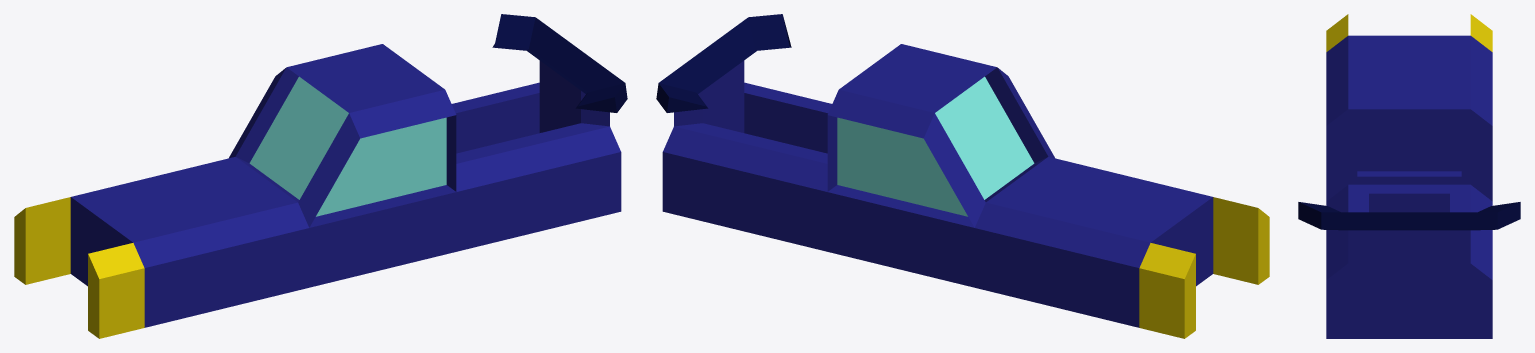
Rendered from car_Car.glb.
The picture shows the model from 3 angles, left to right: view 1: azimuth 30°, elevation 25°; view 2: azimuth 150°, elevation 25°; view 3: azimuth 270°, elevation 25°; orthographic projection. The views are drawn at different scales.
Parts seen in each view (by area): view 1: Cube; view 2: Cube; view 3: Cube.
Boxes of the visible parts, x1,y1,x2,y2 form: Cube: [14, 14, 627, 338]; Cube: [656, 14, 1269, 338]; Cube: [1298, 14, 1520, 338].
Size of the model in its own units: 7.15 by 2 by 2.67.
